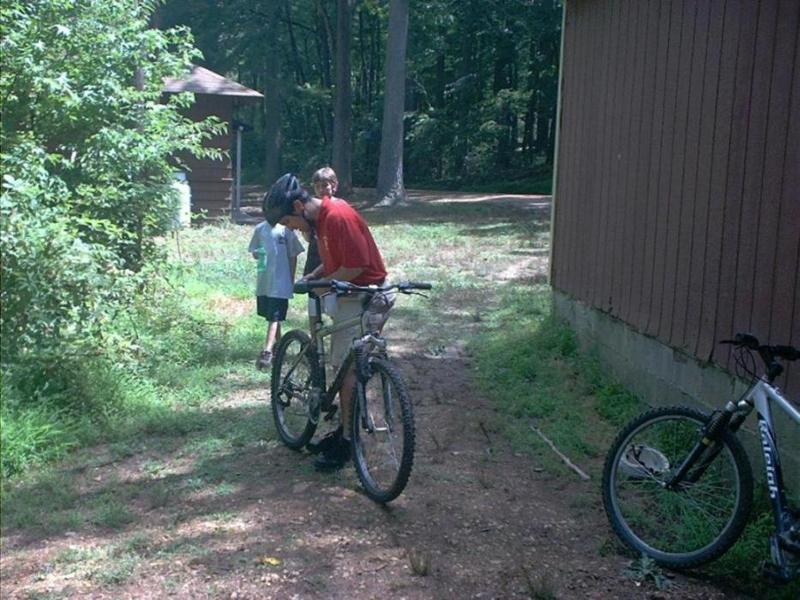person: (263, 177, 398, 471)
